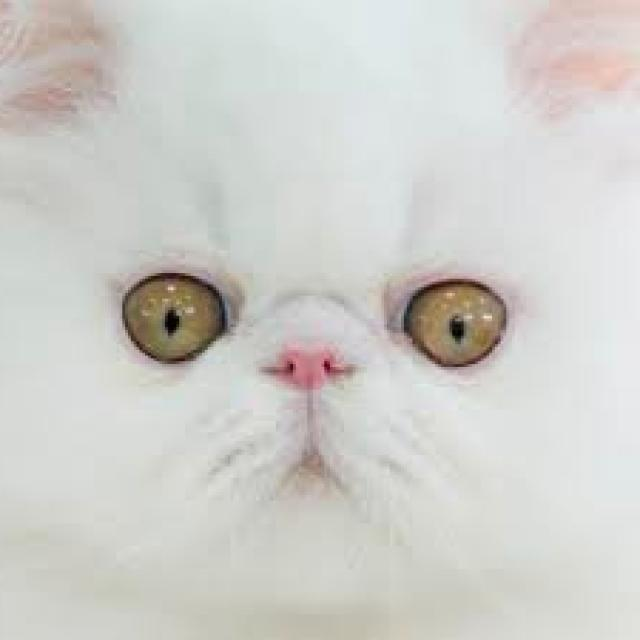cat: (3, 0, 640, 637)
